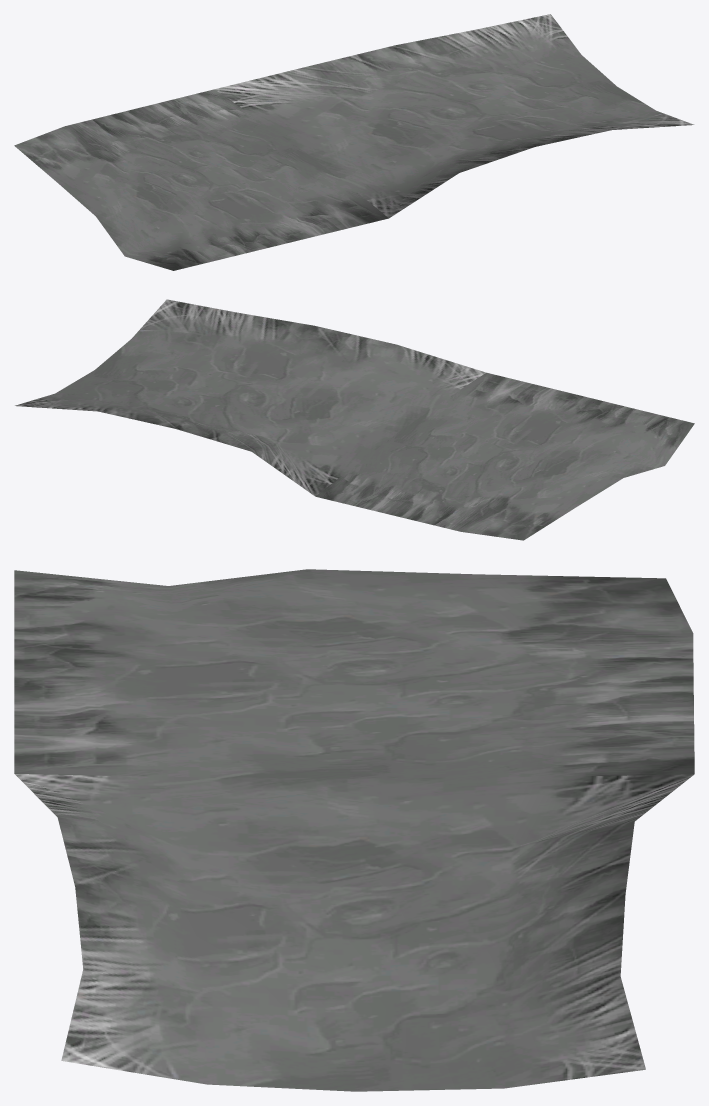
Rendered from SWORDLIGHT20_PS-AREA01_18.fbx.
The picture shows the model from 3 angles, top to bottom: view 1: azimuth 30°, elevation 25°; view 2: azimuth 150°, elevation 25°; view 3: azimuth 270°, elevation 25°; orthographic projection. The views are drawn at different scales.
Visible parts, largest first — view 1: SWORDLIGHT20_PS-AREA01_18; view 2: SWORDLIGHT20_PS-AREA01_18; view 3: SWORDLIGHT20_PS-AREA01_18.
Part boxes in pixels (<box>): SWORDLIGHT20_PS-AREA01_18: <box>14,14,694,270</box>; SWORDLIGHT20_PS-AREA01_18: <box>15,299,694,540</box>; SWORDLIGHT20_PS-AREA01_18: <box>14,569,694,1091</box>.
Size of the model in its own units: 124542 by 7141 by 69032.
2 materials, 2 textured.
